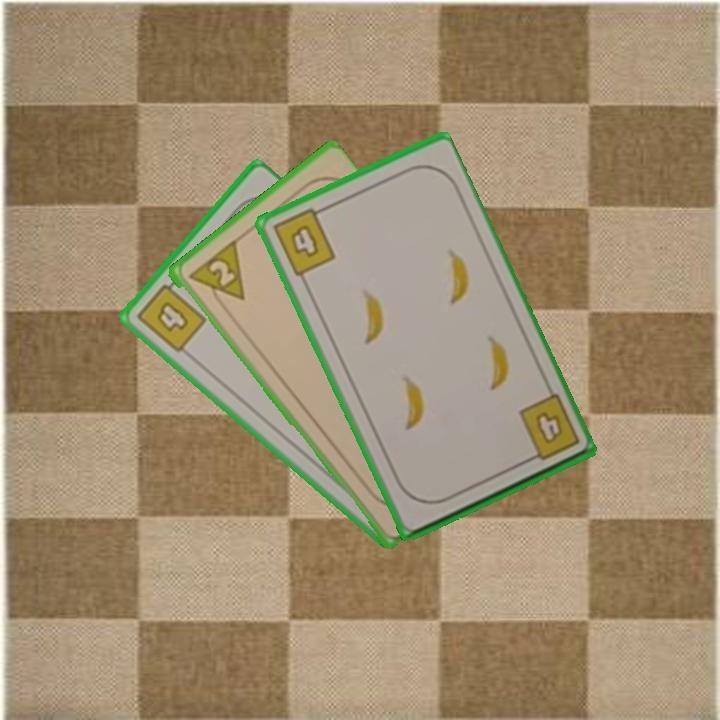2p: (184, 237, 248, 314)
4b: (133, 273, 209, 356), (268, 203, 339, 279), (514, 391, 583, 466)
